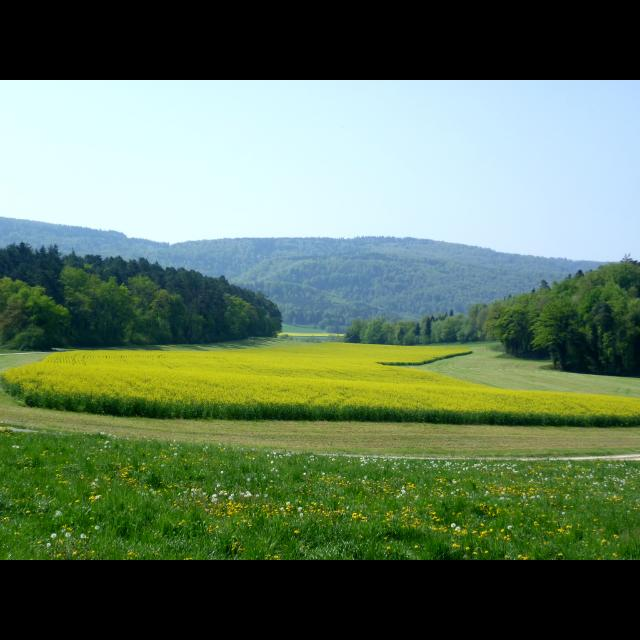Flower: (1, 422, 640, 560)
